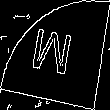M_S: (31, 25, 79, 85)
